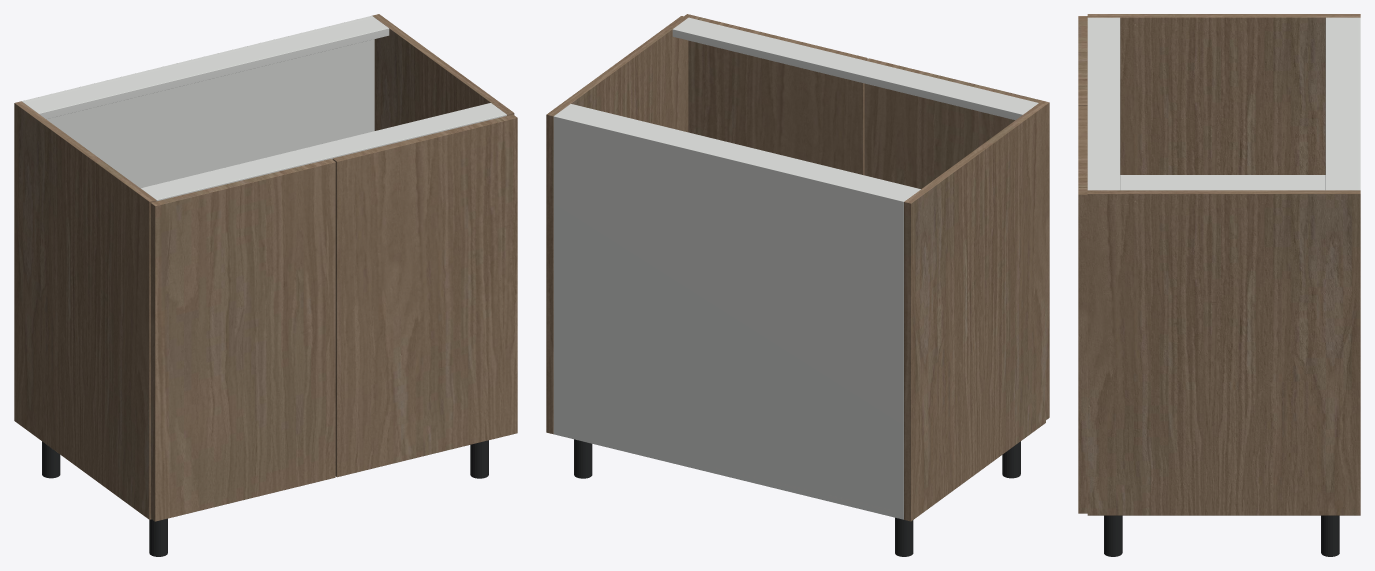
The model's file is oppein-pb-mnw-b36fh.glb.
3 views of the same model, side by side, from view 1: azimuth 30°, elevation 25°; view 2: azimuth 150°, elevation 25°; view 3: azimuth 270°, elevation 25° (orthographic).
Visible parts, largest first — view 1: Door, Door.001, Cabinet side, Cabinet back, Top support rail, Cabinet side.001, Top support rail.001, Adjustable foot.001, Adjustable foot.003; view 2: Cabinet back, Cabinet side, Door.001, Door, Cabinet side.001, Top support rail.001, Top support rail, Adjustable foot, Adjustable foot.002; view 3: Cabinet side.001, Cabinet side, Top support rail.001, Top support rail, Door.001, Adjustable shelf, Cabinet back, Door, Adjustable foot.003, Adjustable foot.002.
Part boxes in pixels (box(x1,y1,x2,y2)): Door: box(150, 159, 335, 521); Door.001: box(332, 114, 517, 477); Cabinet side: box(14, 101, 156, 519); Cabinet back: box(21, 15, 374, 188); Top support rail: box(23, 17, 389, 119); Cabinet side.001: box(372, 14, 514, 130); Top support rail.001: box(141, 103, 506, 201); Adjustable foot.001: box(149, 518, 167, 556); Adjustable foot.003: box(470, 440, 488, 478); Cabinet back: box(553, 114, 905, 519); Cabinet side: box(904, 103, 1045, 521); Door.001: box(684, 14, 867, 175); Door: box(864, 58, 1049, 419); Cabinet side.001: box(546, 16, 688, 434); Top support rail.001: box(672, 17, 1038, 120); Top support rail: box(556, 104, 920, 199); Adjustable foot: box(895, 517, 913, 556); Adjustable foot.002: box(574, 439, 592, 478); Cabinet side.001: box(1087, 190, 1360, 515); Cabinet side: box(1087, 14, 1360, 174); Top support rail.001: box(1087, 17, 1120, 190); Top support rail: box(1325, 17, 1357, 190); Door.001: box(1078, 105, 1087, 513); Adjustable shelf: box(1120, 175, 1325, 190); Cabinet back: box(1355, 17, 1360, 190); Door: box(1078, 16, 1087, 105); Adjustable foot.003: box(1104, 515, 1122, 556); Adjustable foot.002: box(1321, 515, 1339, 556).
Size of the model in its own units: 0.9144 by 0.8763 by 0.6064.
3 materials, 1 textured.
